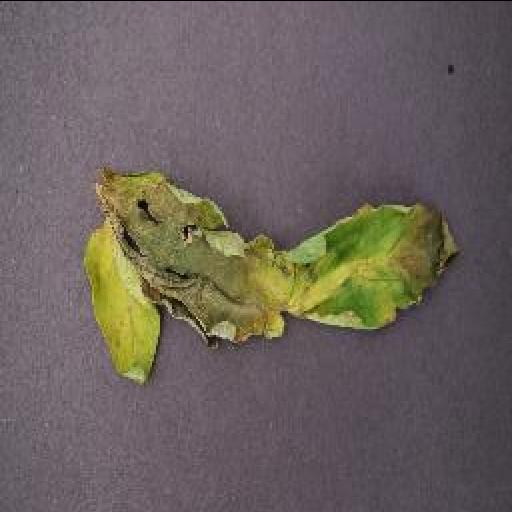disease_tomato: (86, 170, 464, 384)
